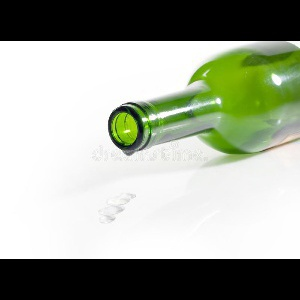emptybottle: (107, 41, 300, 156)
